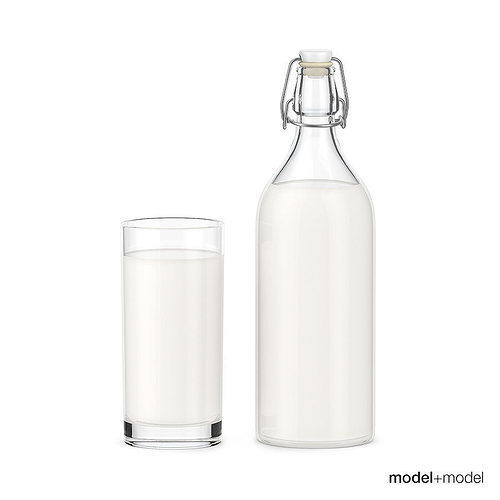glass of milk: (250, 160, 379, 445), (119, 215, 223, 441)
